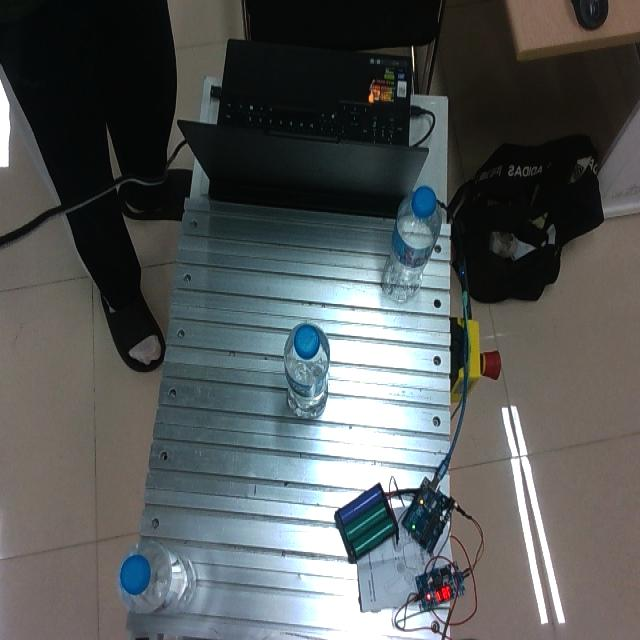lavie: (381, 184, 442, 304), (119, 540, 197, 615), (283, 322, 331, 418)
